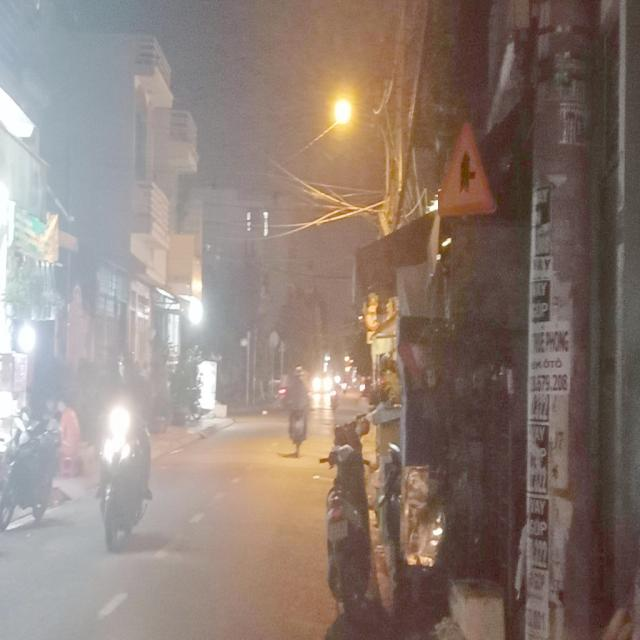giao_nhau_voi_duong_khong_uu_tien: (438, 123, 498, 214)
